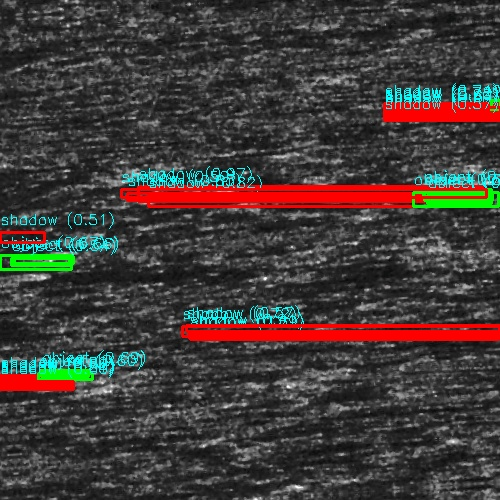rock: (430, 252, 500, 265), (0, 190, 74, 201), (475, 109, 500, 122), (418, 375, 439, 382)
shadow: (28, 190, 369, 201), (0, 332, 311, 337), (429, 375, 500, 382), (0, 115, 115, 118), (0, 227, 29, 232)
